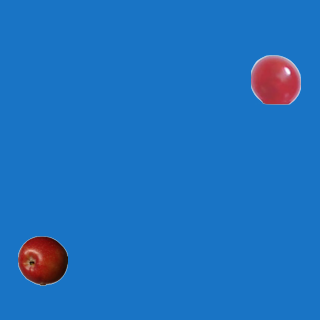Apple Braeburn: (17, 235, 67, 285)
Redcurrant: (250, 54, 300, 104)
